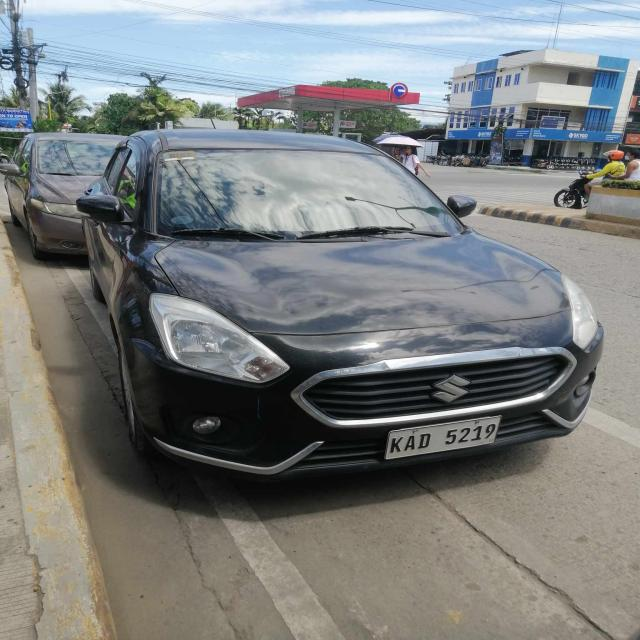license-plate: (384, 415, 504, 462)
